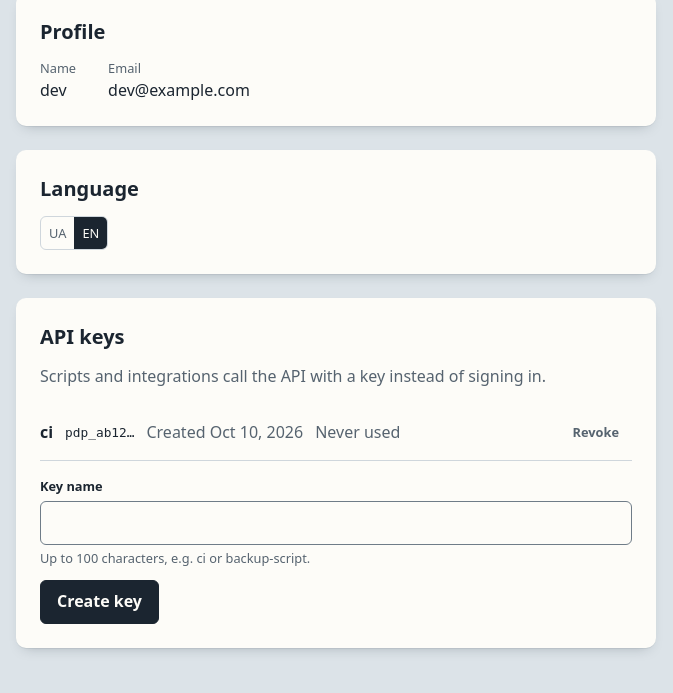
Test: settings › wants a name for a new key
(page scrolled)
Click the button "Create key". click: (100, 602)
box: [40,580,159,624]
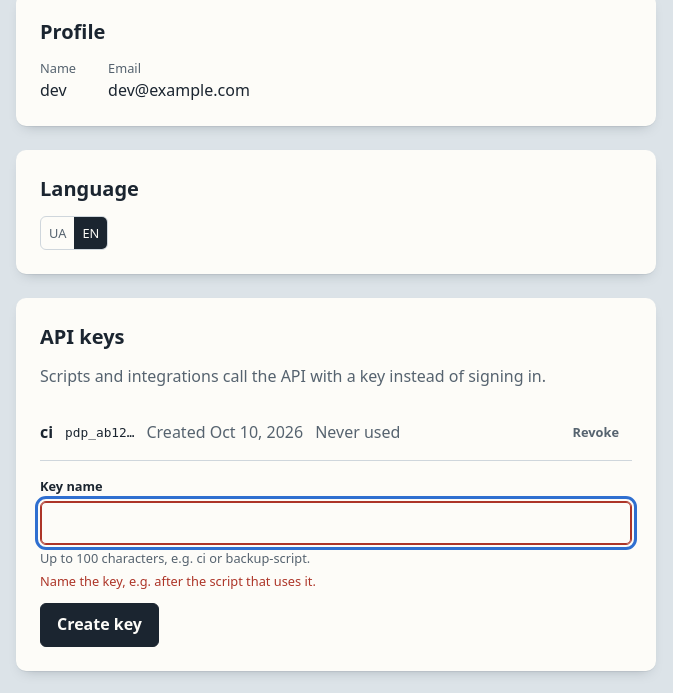
Result: the text "Name the key, e.g. after the script that uses it." is shown at [40,572,316,590]
